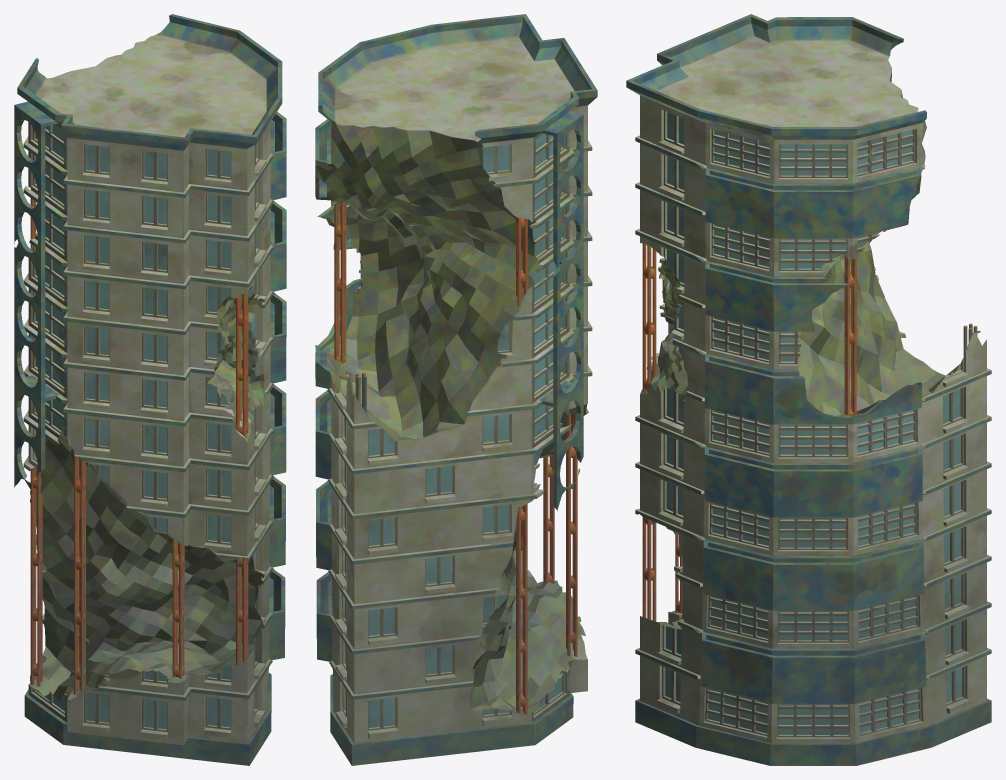
The model's file is immeuble 3 détruit+props fix.fbx.
3 views of the same model, side by side, from view 1: azimuth 30°, elevation 25°; view 2: azimuth 150°, elevation 25°; view 3: azimuth 270°, elevation 25° (orthographic). The views are drawn at different scales.
Parts seen in each view (by area): view 1: Cube.128; view 2: Cube.128; view 3: Cube.128.
Part boxes in pixels (x1=…): Cube.128: x1=14, y1=14, x2=286, y2=765; Cube.128: x1=315, y1=14, x2=597, y2=765; Cube.128: x1=626, y1=14, x2=991, y2=765.
Size of the model in its own units: 6464 by 16265 by 8382.
